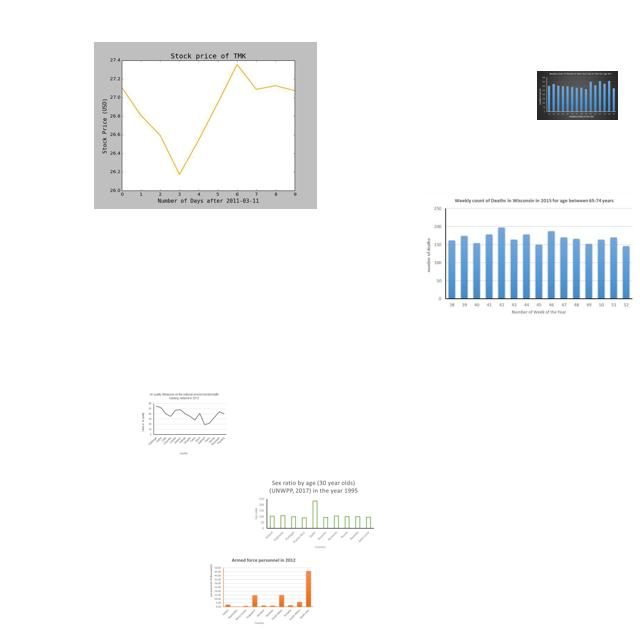Graph: (94, 42, 317, 209), (421, 192, 637, 321), (251, 478, 375, 550), (208, 556, 315, 627), (139, 392, 229, 456), (537, 71, 618, 120)
